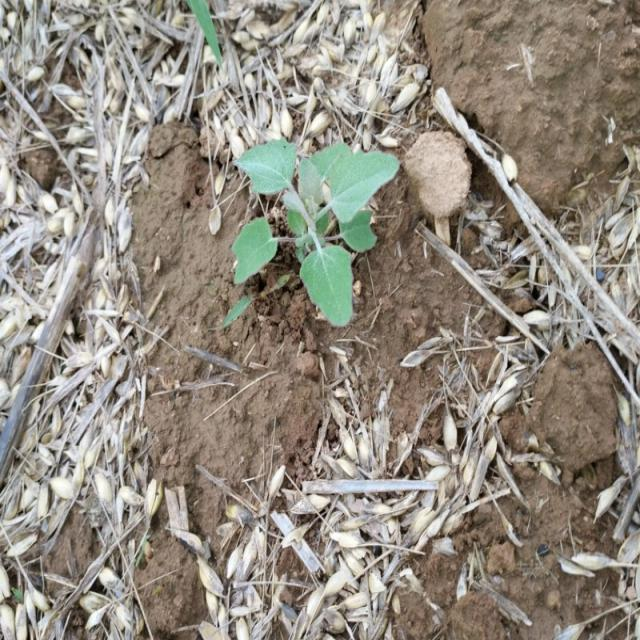goosefoots: (219, 114, 383, 318)
